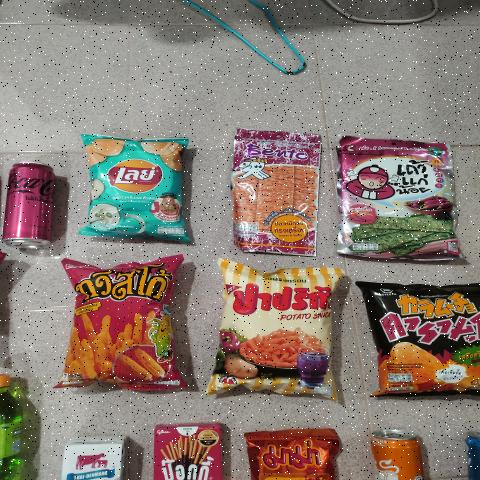bento_red: (235, 124, 320, 252)
coke_red: (0, 165, 61, 245)
karamujo: (362, 284, 480, 396)
lay_blue: (88, 139, 182, 242)
paprika: (221, 270, 335, 400)
taokaenoi: (341, 137, 460, 256)
twisco: (66, 261, 184, 385)
